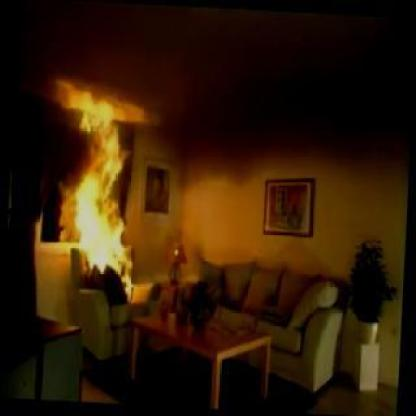Fire: (51, 88, 154, 290)
